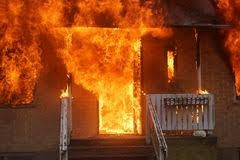fire: (0, 3, 153, 137), (165, 48, 177, 81), (193, 87, 211, 96)
